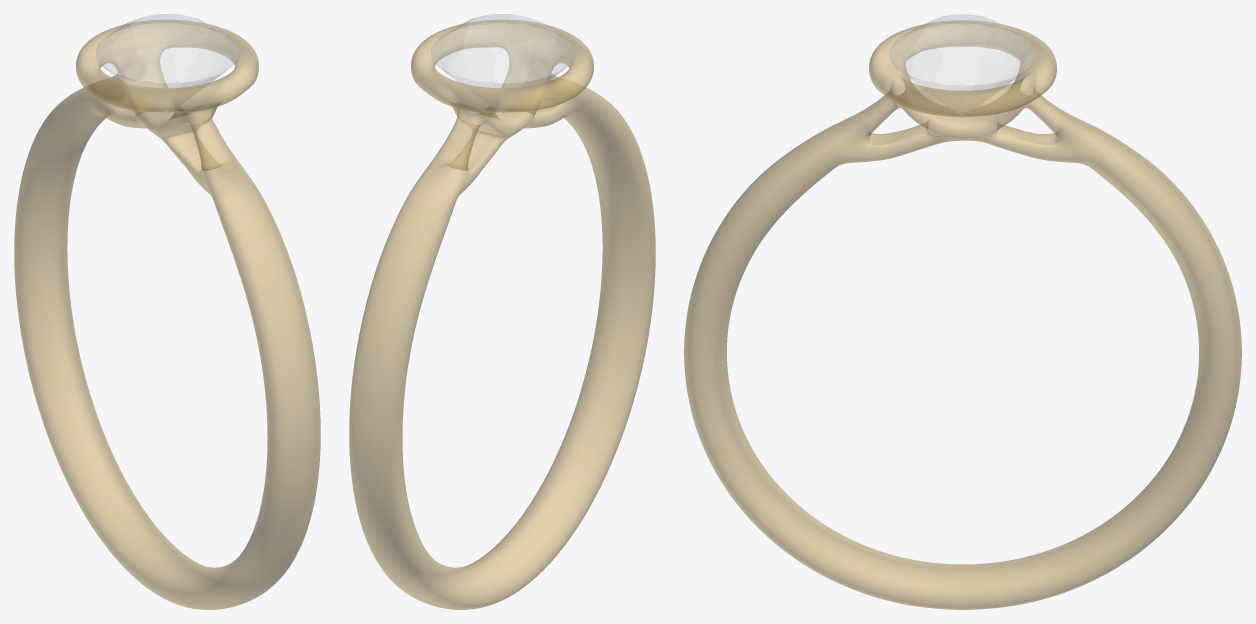
3 views of the same model, side by side, from view 1: azimuth 30°, elevation 25°; view 2: azimuth 150°, elevation 25°; view 3: azimuth 270°, elevation 25° (orthographic). The views are drawn at different scales.
Parts seen in each view (by area): view 1: Ring, Diamond; view 2: Ring, Diamond; view 3: Ring, Diamond.
Boxes of the visible parts, x1,y1,x2,y2 form: Ring: (14, 20, 320, 609); Diamond: (96, 14, 238, 113); Ring: (349, 20, 655, 609); Diamond: (431, 14, 573, 113); Ring: (684, 20, 1241, 609); Diamond: (889, 14, 1036, 115).
Size of the model in its own units: 0.7804 by 2.63 by 2.32.
